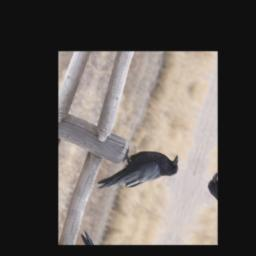Crow: (94, 127, 183, 219)
